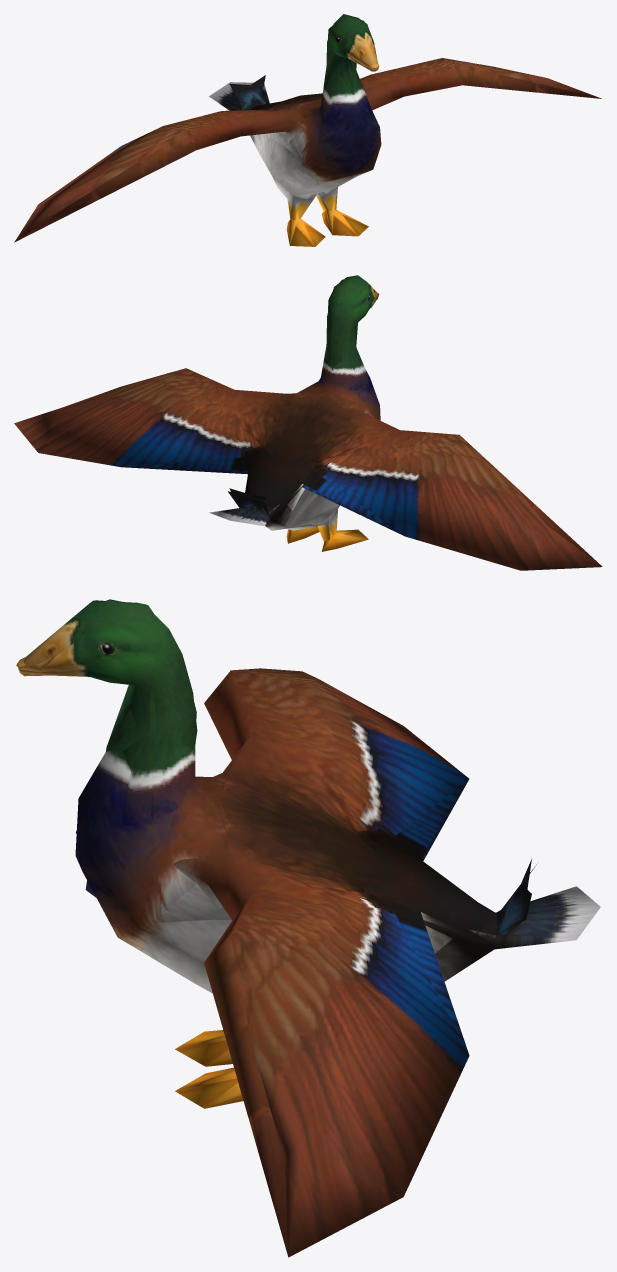
File: mallard.obj
3 views of the same model, one above another, from view 1: azimuth 30°, elevation 25°; view 2: azimuth 150°, elevation 25°; view 3: azimuth 270°, elevation 25° (orthographic). The views are drawn at different scales.
Parts seen in each view (by area): view 1: mallard; view 2: mallard; view 3: mallard.
Part boxes in pixels (x1=…): mallard: x1=14, y1=14, x2=601, y2=246; mallard: x1=14, y1=275, x2=602, y2=570; mallard: x1=16, y1=599, x2=600, y2=1257.
Size of the model in its own units: 2.47 by 0.9421 by 1.06.
6 materials, 6 textured.
